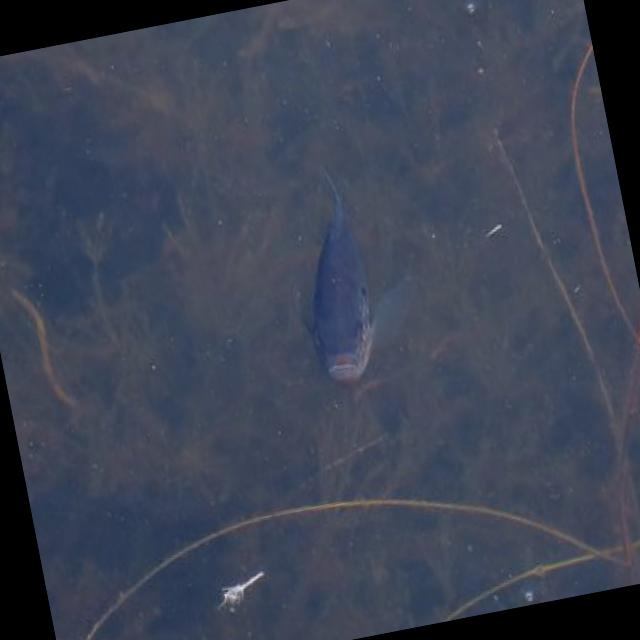Gunes Levregi: (269, 156, 435, 418)
